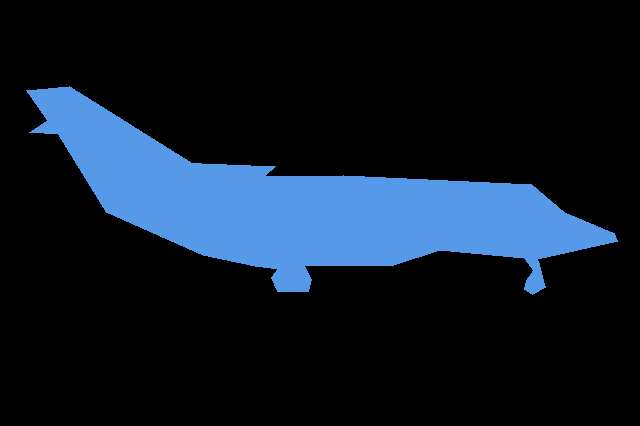Airplane: (26, 86, 617, 295)
